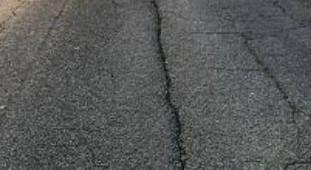crack: (148, 1, 188, 170)
